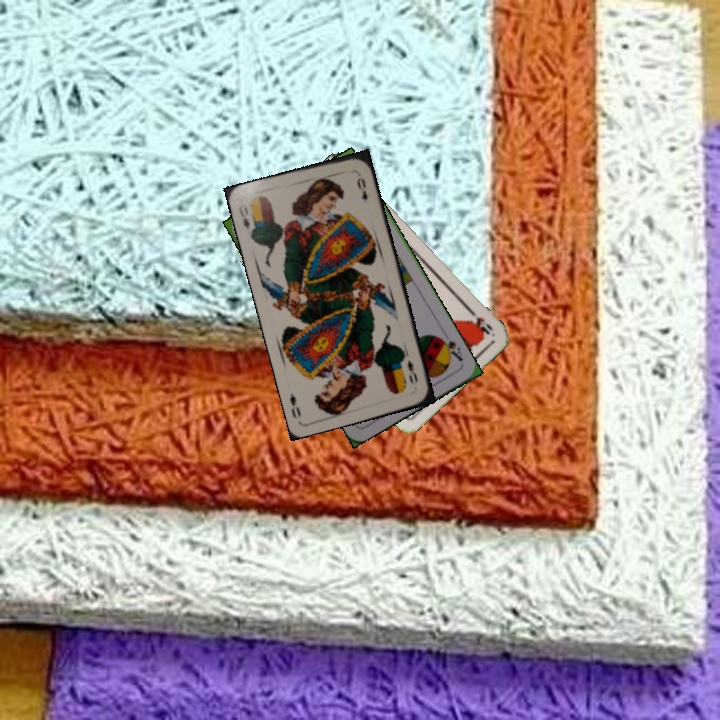EO: (235, 200, 252, 232), (403, 356, 421, 386)
HO: (463, 304, 495, 337)
SA: (434, 333, 465, 364)
